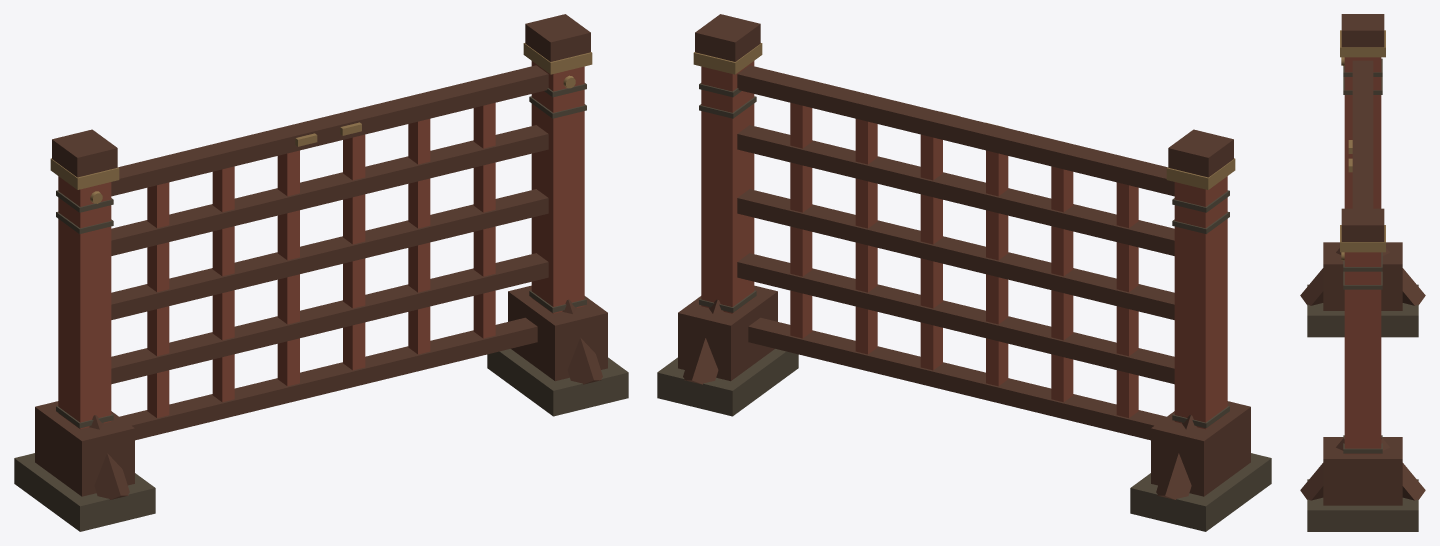
3 views of the same model, side by side, from view 1: azimuth 30°, elevation 25°; view 2: azimuth 150°, elevation 25°; view 3: azimuth 270°, elevation 25° (orthographic). The views are drawn at different scales.
Parts seen in each view (by area): view 1: E06_wood, E06_red, E06_bronze, E06_gold; view 2: E06_wood, E06_red, E06_bronze, E06_gold; view 3: E06_wood, E06_red, E06_bronze, E06_gold.
Part boxes in pixels (x1=…): E06_wood: x1=35, y1=14, x2=607, y2=499; E06_red: x1=58, y1=61, x2=584, y2=429; E06_bronze: x1=14, y1=83, x2=628, y2=531; E06_gold: x1=50, y1=43, x2=592, y2=203; E06_wood: x1=678, y1=14, x2=1250, y2=499; E06_red: x1=701, y1=61, x2=1227, y2=429; E06_bronze: x1=657, y1=83, x2=1271, y2=531; E06_gold: x1=693, y1=43, x2=1235, y2=189; E06_wood: x1=1300, y1=14, x2=1425, y2=505; E06_red: x1=1344, y1=57, x2=1381, y2=454; E06_bronze: x1=1307, y1=58, x2=1418, y2=531; E06_gold: x1=1340, y1=30, x2=1385, y2=260.
Bounding box in the file's own units: 2.69 × 1.66 × 0.6327.
